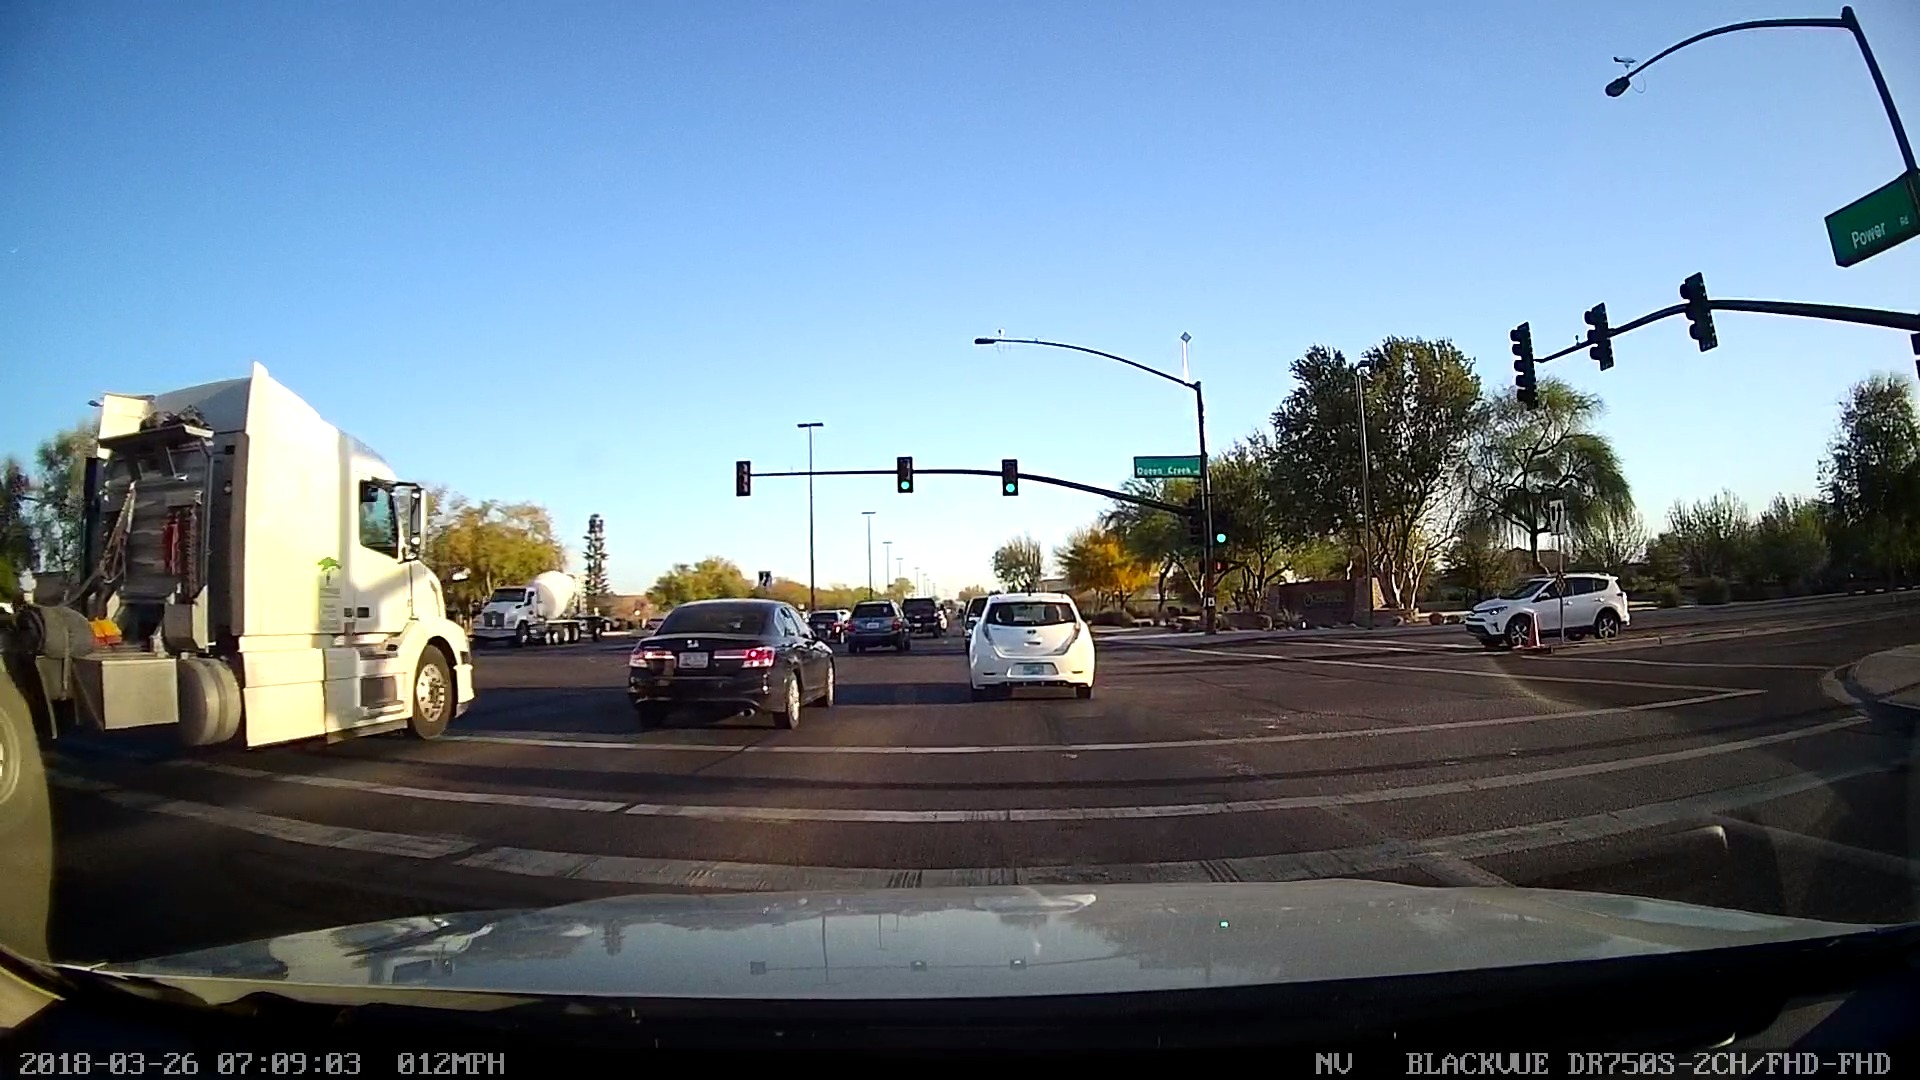vehicle: (36, 287, 501, 810), (616, 588, 853, 752), (945, 567, 1112, 717), (1445, 556, 1636, 647), (468, 563, 600, 655), (825, 585, 920, 665), (661, 642, 723, 673), (1004, 649, 1056, 684)
